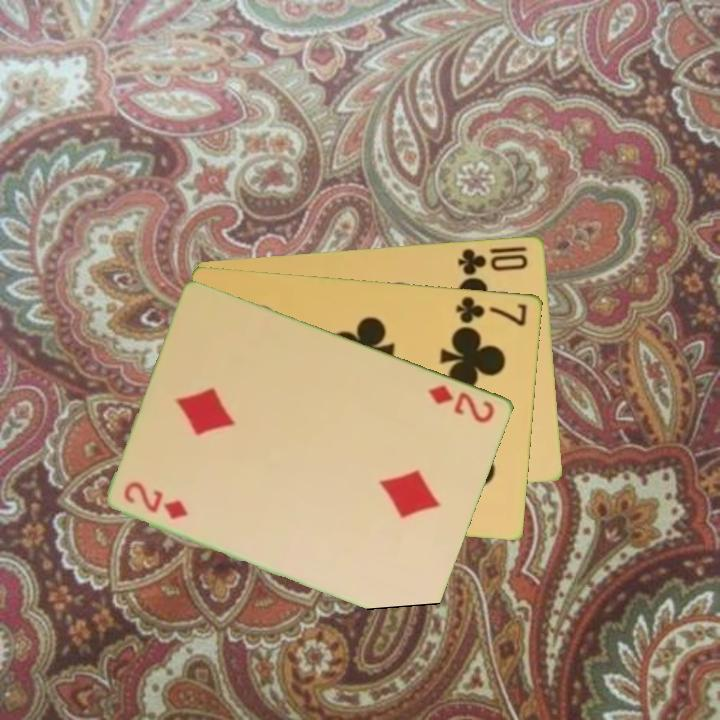10c: (454, 242, 531, 277)
2d: (424, 381, 498, 426), (121, 479, 191, 522)
7c: (453, 292, 531, 329)
